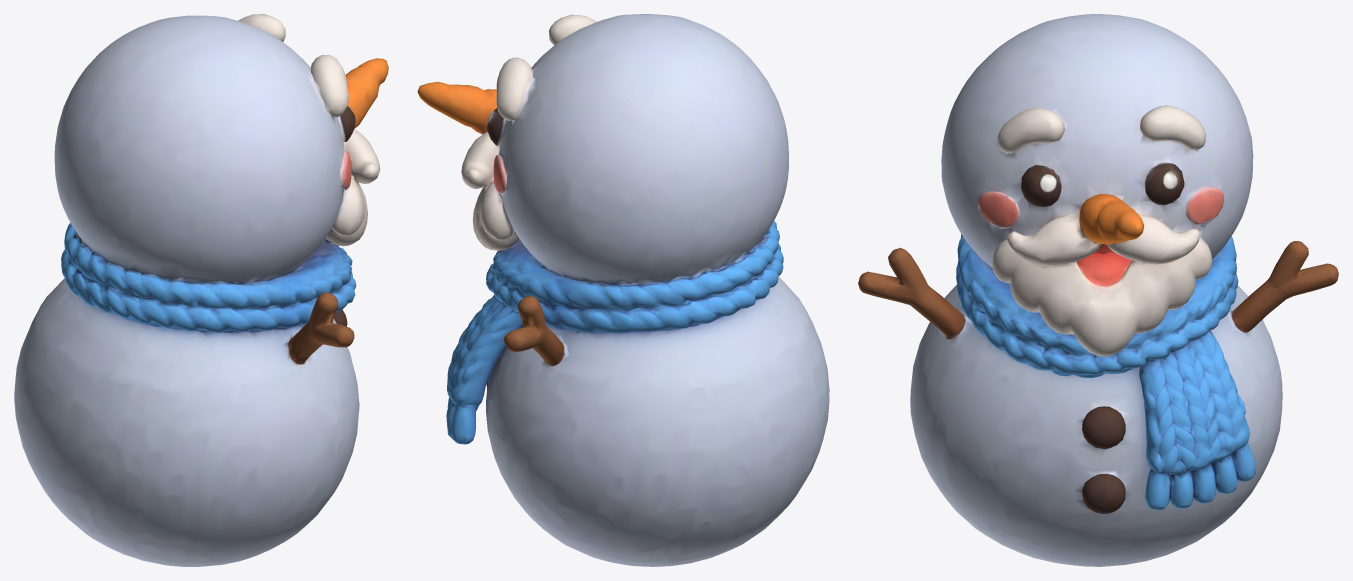
Rendered from snowman.glb.
The picture shows the model from 3 angles, left to right: view 1: azimuth 30°, elevation 25°; view 2: azimuth 150°, elevation 25°; view 3: azimuth 270°, elevation 25°; orthographic projection. The views are drawn at different scales.
Parts seen in each view (by area): view 1: tripo_node_ee29c707-d520-4773-b4c1-bc565a327c41; view 2: tripo_node_ee29c707-d520-4773-b4c1-bc565a327c41; view 3: tripo_node_ee29c707-d520-4773-b4c1-bc565a327c41.
Boxes of the visible parts, box(x1,y1,x2,y2) form: tripo_node_ee29c707-d520-4773-b4c1-bc565a327c41: box(14, 14, 388, 566); tripo_node_ee29c707-d520-4773-b4c1-bc565a327c41: box(417, 14, 829, 566); tripo_node_ee29c707-d520-4773-b4c1-bc565a327c41: box(858, 14, 1338, 566).
Bounding box in the file's own units: 0.7432 × 1 × 0.8264.
Materials: 1 (1 with a texture image).
